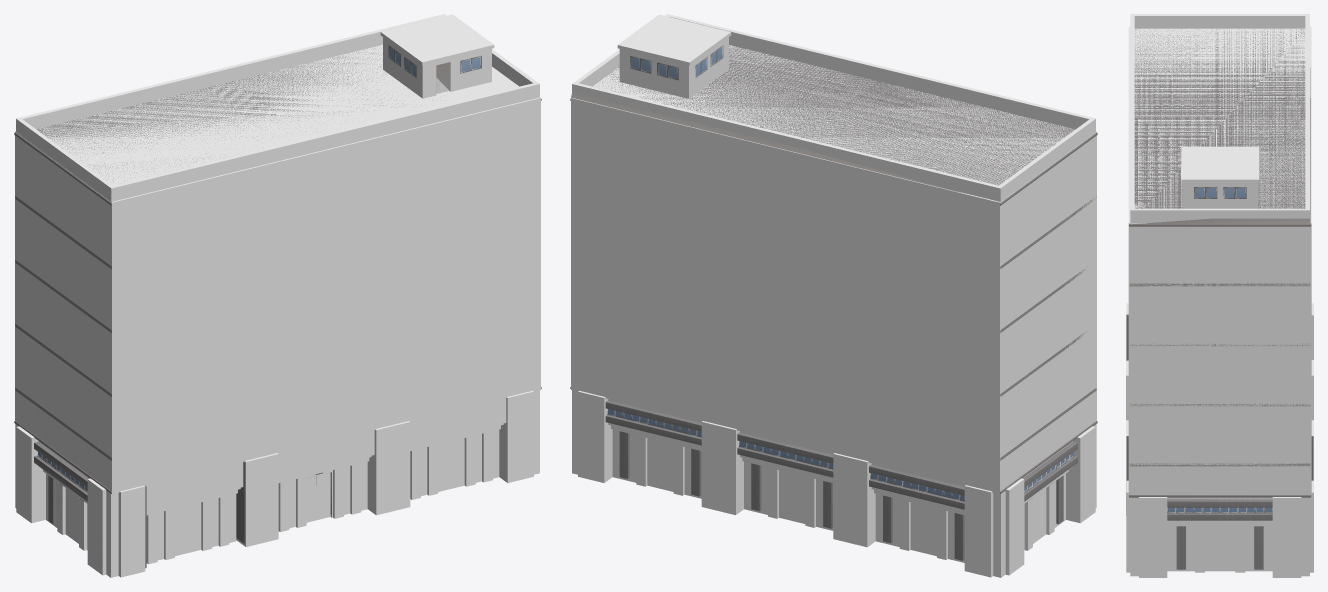
The model's file is objects_un_c03building04.gltf.
3 renders of one model, left to right at view 1: azimuth 30°, elevation 25°; view 2: azimuth 150°, elevation 25°; view 3: azimuth 270°, elevation 25°, orthographic. The views are drawn at different scales.
Parts seen in each view (by area): view 1: um_objects_un_c03building04_model_lod0Shape:objects_un_c03bu (×3); view 2: um_objects_un_c03building04_model_lod0Shape:objects_un_c03bu (×3), nomerge_glass01_shape:objects_un_c03building01_glass01, um_objects_un_c03building04_model_lod2Shape:objects_un_c03bu; view 3: um_objects_un_c03building04_model_lod0Shape:objects_un_c03bu (×3), um_objects_un_c03building04_model_lod2Shape:objects_un_c03bu, nomerge_glass01_shape:objects_un_c03building01_glass01.
Boxes of the visible parts, x1,y1,x2,y2 form: um_objects_un_c03building04_model_lod0Shape:objects_un_c03bu (×3): [14, 14, 541, 577]; um_objects_un_c03building04_model_lod0Shape:objects_un_c03bu (×3): [570, 14, 1097, 577]; nomerge_glass01_shape:objects_un_c03building01_glass01: [608, 47, 1073, 500]; um_objects_un_c03building04_model_lod2Shape:objects_un_c03bu: [571, 92, 1097, 441]; um_objects_un_c03building04_model_lod0Shape:objects_un_c03bu (×3): [1126, 14, 1313, 577]; um_objects_un_c03building04_model_lod2Shape:objects_un_c03bu: [1129, 67, 1310, 497]; nomerge_glass01_shape:objects_un_c03building01_glass01: [1168, 188, 1272, 512].
Size of what is drawn, in the model's own units: 30.39 by 27.51 by 12.06.
7 materials, 6 textured.
